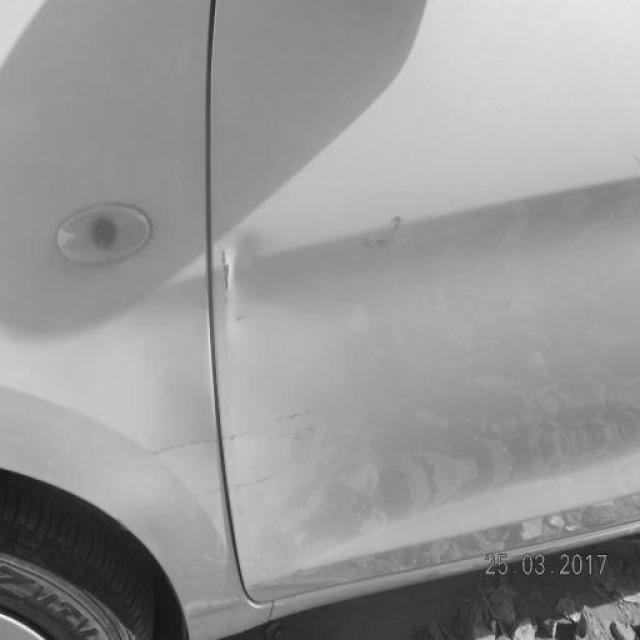scratch: (142, 408, 320, 457), (194, 470, 290, 502), (361, 215, 415, 252), (219, 248, 229, 301)
